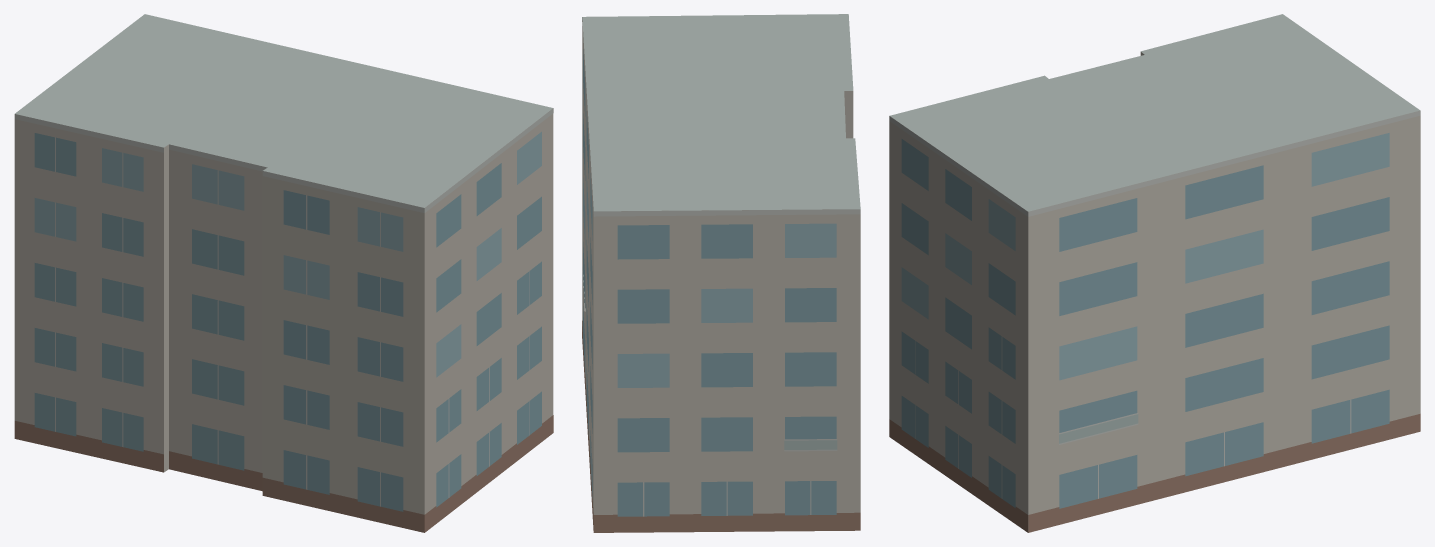
Rendered from survey-upis-33007543.glb.
The picture shows the model from 3 angles, left to right: view 1: azimuth 30°, elevation 25°; view 2: azimuth 150°, elevation 25°; view 3: azimuth 270°, elevation 25°; orthographic projection.
Parts seen in each view (by area): view 1: survey-upis-33007543.tmp; view 2: survey-upis-33007543.tmp; view 3: survey-upis-33007543.tmp.
Boxes of the visible parts, x1,y1,x2,y2 form: survey-upis-33007543.tmp: (14,14,553,532); survey-upis-33007543.tmp: (582,14,860,532); survey-upis-33007543.tmp: (889,14,1420,532).
Bounding box in the file's own units: 20.15 × 15.25 × 22.87.
